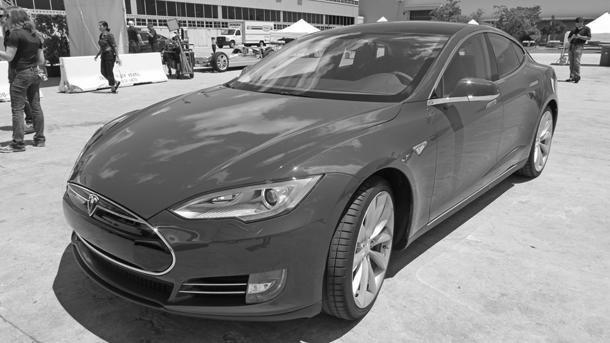car: (54, 16, 569, 332)
